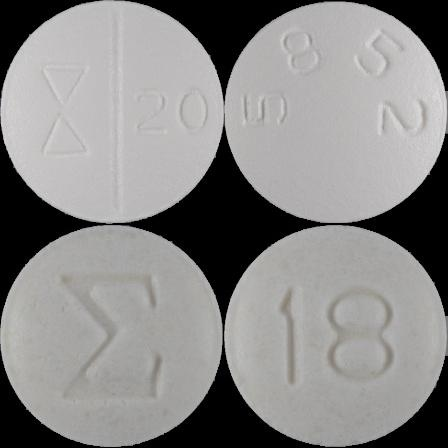42549-672: (0, 0, 224, 224)
